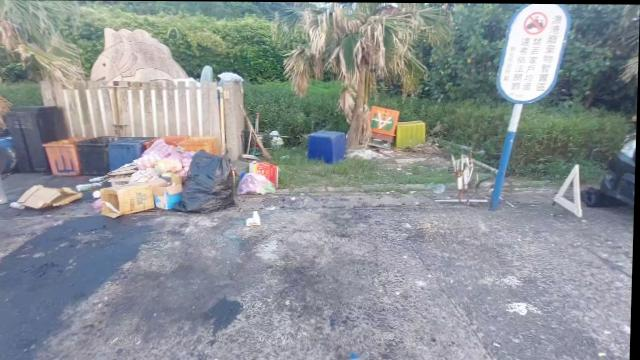pollute: (10, 135, 282, 218), (350, 105, 430, 159), (307, 126, 346, 166), (450, 152, 477, 198), (246, 209, 262, 225)
